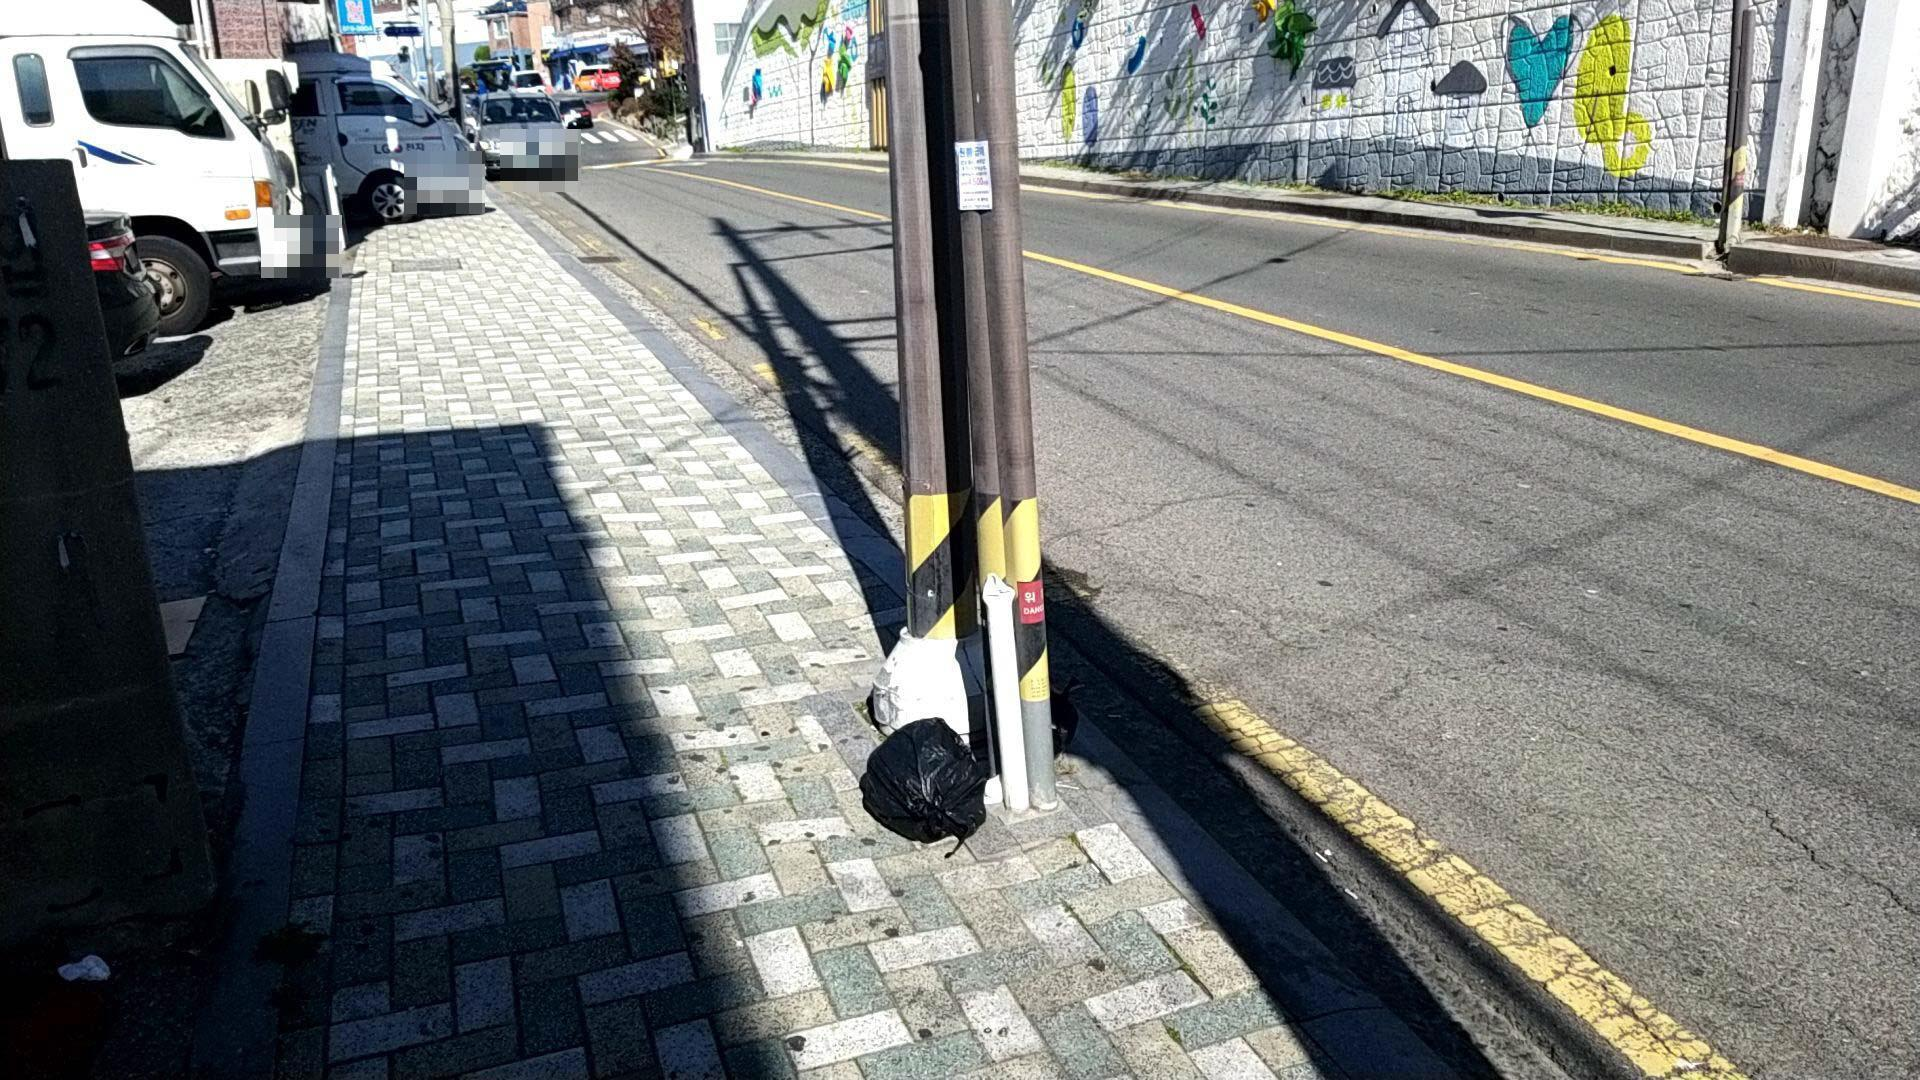black_bag: (850, 718, 993, 858)
